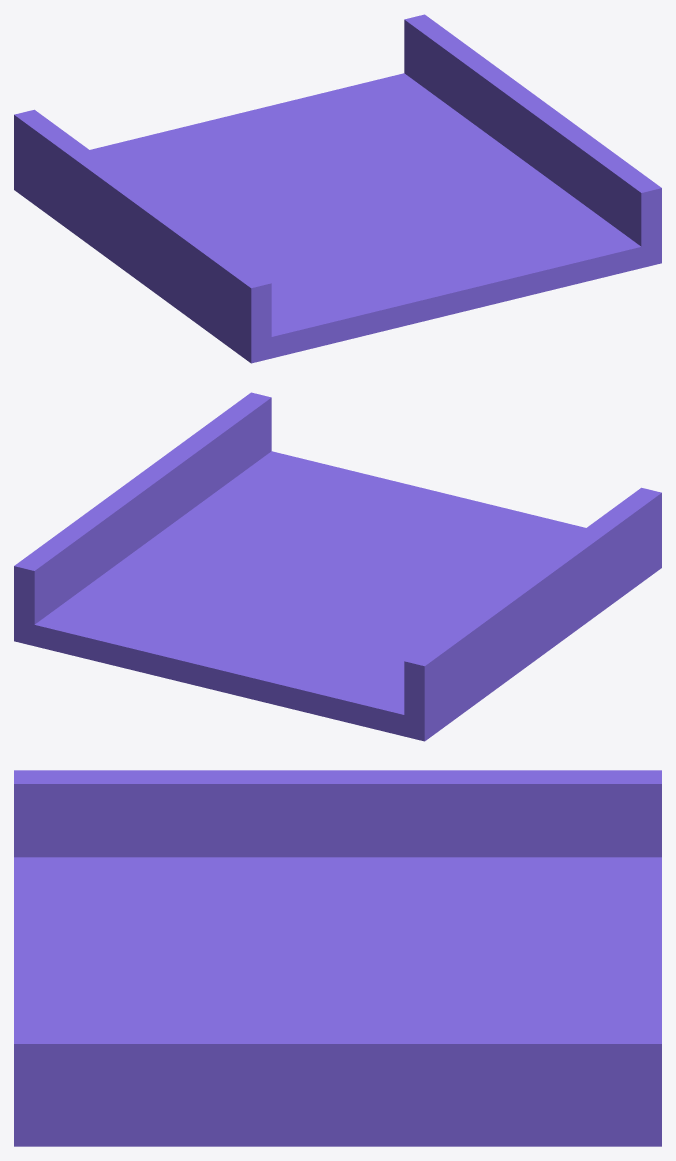
The model's file is PurpleRoof_2Edges.glb.
3 renders of one model, top to bottom at view 1: azimuth 30°, elevation 25°; view 2: azimuth 150°, elevation 25°; view 3: azimuth 270°, elevation 25°, orthographic. The views are drawn at different scales.
Visible parts, largest first — view 1: roof_flat_2Edges_purple; view 2: roof_flat_2Edges_purple; view 3: roof_flat_2Edges_purple.
Part boxes in pixels (x1=…): roof_flat_2Edges_purple: x1=14, y1=14, x2=661, y2=363; roof_flat_2Edges_purple: x1=14, y1=392, x2=661, y2=741; roof_flat_2Edges_purple: x1=14, y1=770, x2=661, y2=1146.
Size of what is drawn, in the model's own units: 4 by 0.7 by 4.
Materials: 1 (1 with a texture image).
